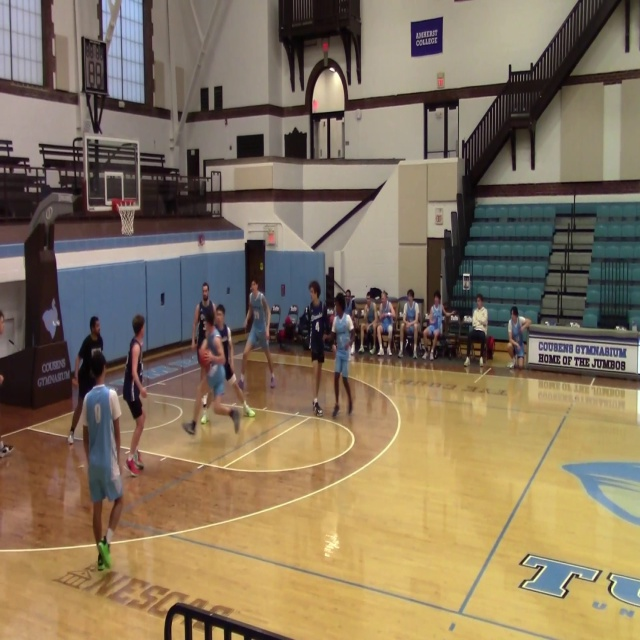Basketball: (197, 347, 212, 368)
